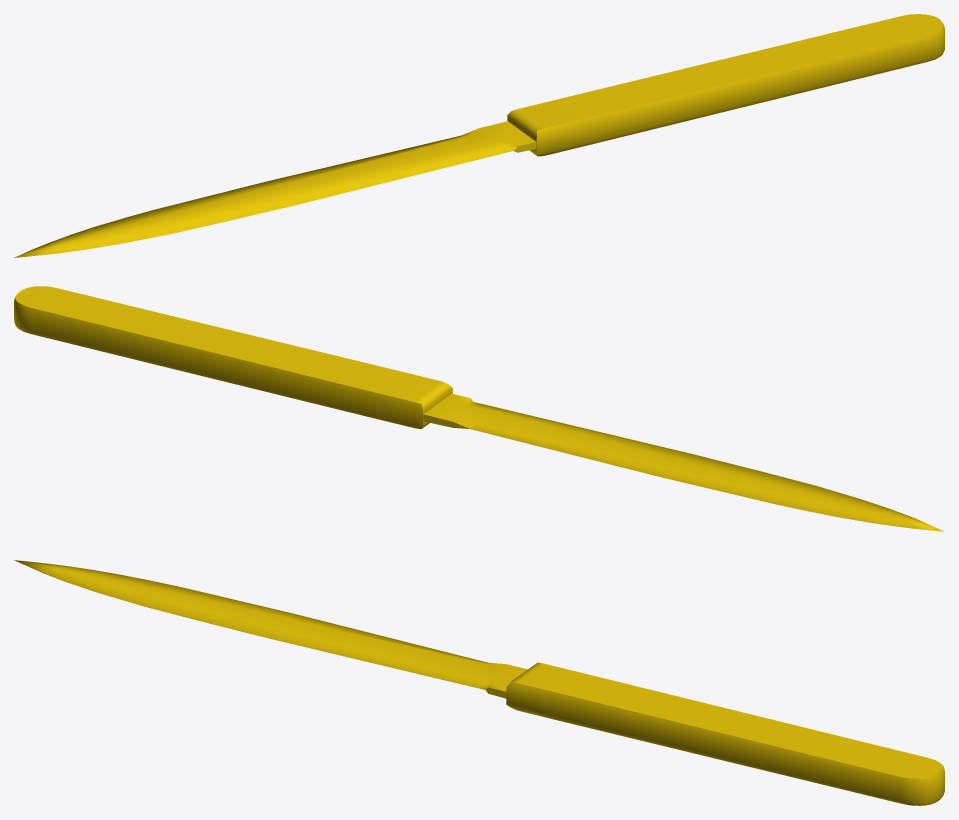
File: SM_Knife_15.FBX
3 renders of one model, top to bottom at view 1: azimuth 30°, elevation 25°; view 2: azimuth 150°, elevation 25°; view 3: azimuth 330°, elevation 25°, orthographic.
Parts seen in each view (by area): view 1: Knife_15; view 2: Knife_15; view 3: Knife_15.
Boxes of the visible parts, x1,y1,x2,y2 form: Knife_15: (14,14,944,257); Knife_15: (14,286,944,531); Knife_15: (14,560,944,805).
Bounding box in the file's own units: 23.46 × 0.6925 × 1.38.
